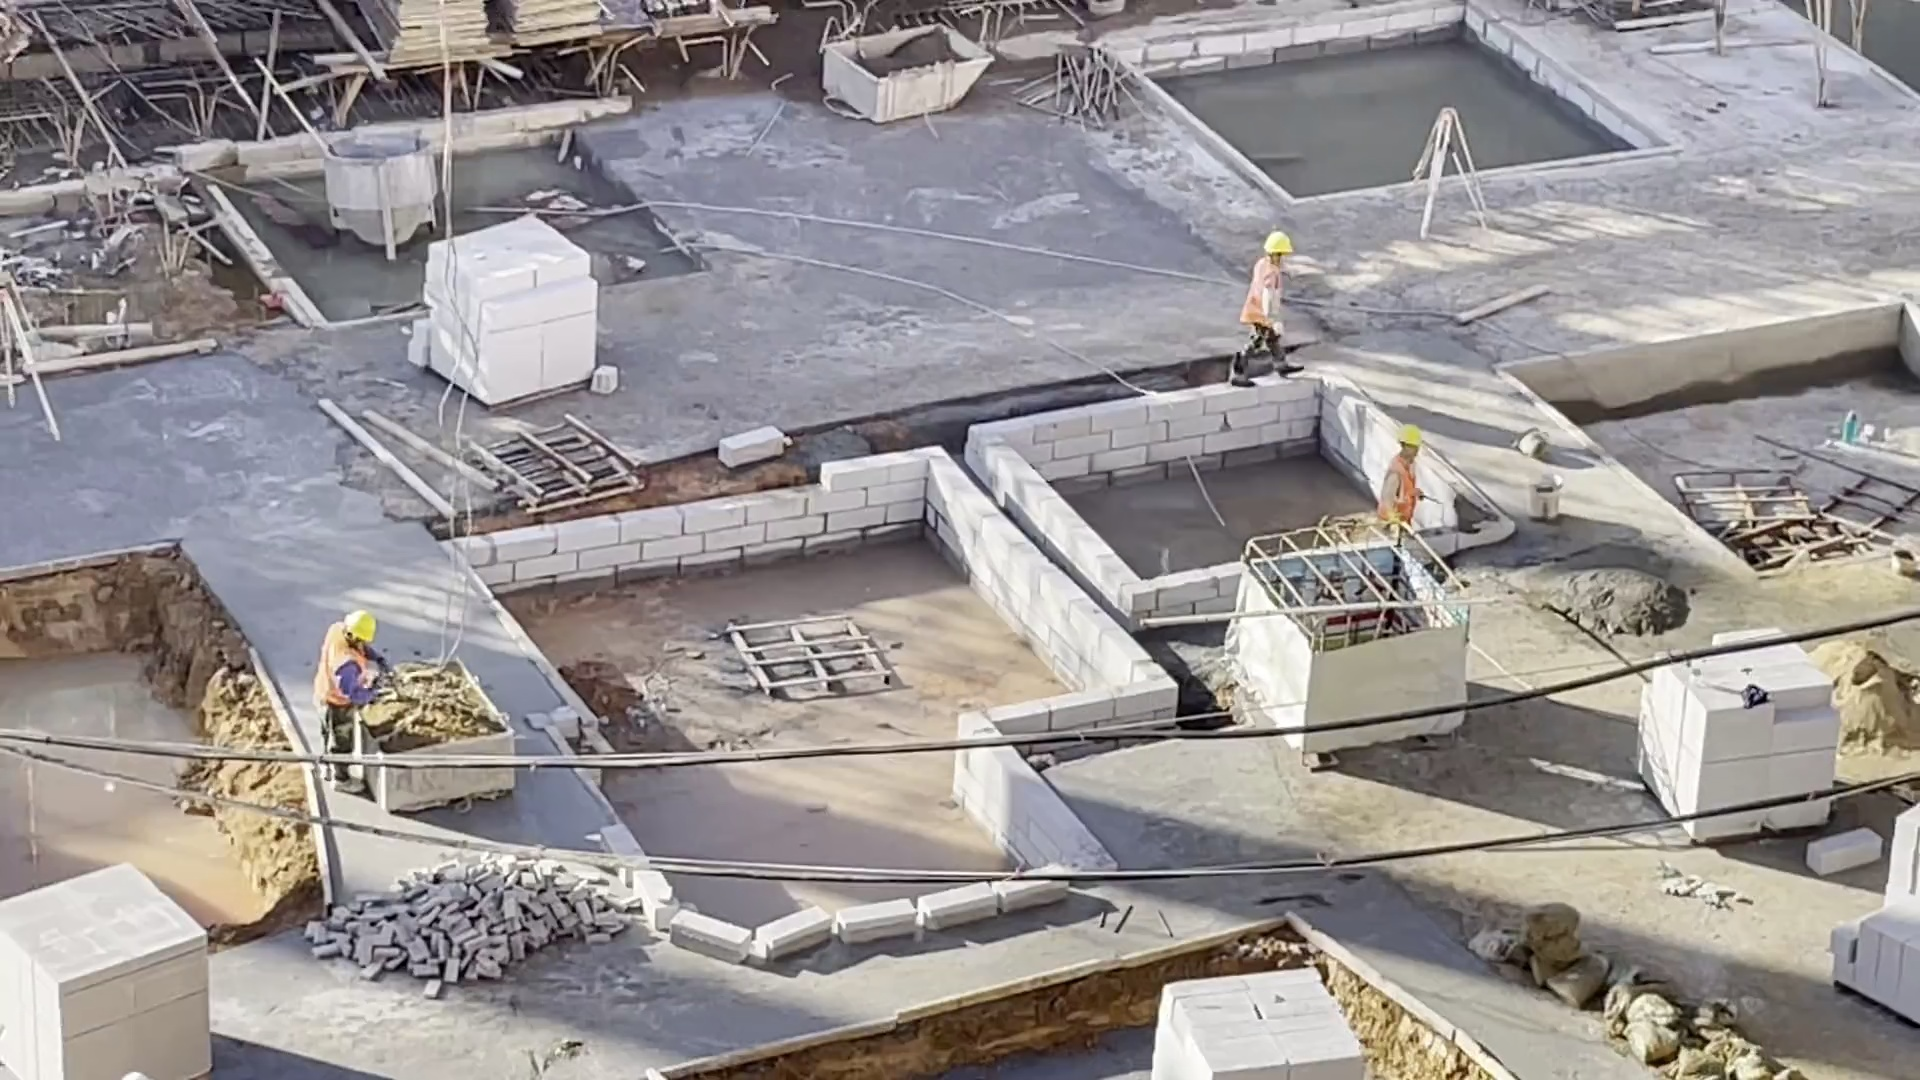board: (355, 1, 493, 75), (501, 5, 607, 53)
brick: (1, 860, 208, 1080), (413, 216, 606, 412), (1141, 958, 1371, 1080), (1810, 790, 1920, 1009), (1635, 674, 1836, 790)
helmet: (337, 610, 376, 645), (1259, 229, 1297, 256), (1394, 422, 1424, 450)
hopper: (810, 19, 999, 128), (321, 127, 443, 261)
person: (1223, 229, 1312, 388), (308, 606, 372, 753), (1368, 422, 1432, 527)
vest: (311, 619, 368, 703), (1235, 262, 1286, 329), (1377, 454, 1421, 524)
